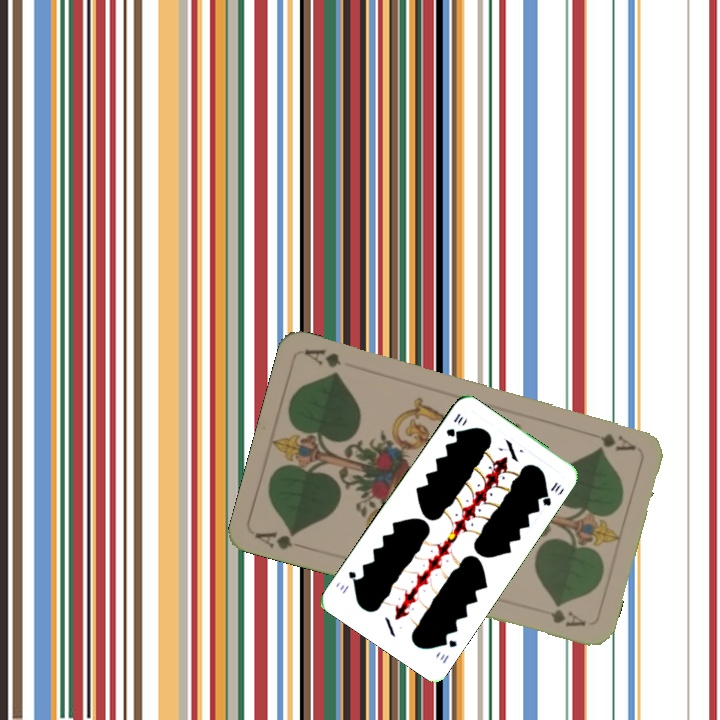G10: (435, 634, 459, 667), (442, 409, 465, 440)
GA: (581, 427, 639, 454), (252, 527, 299, 553)
